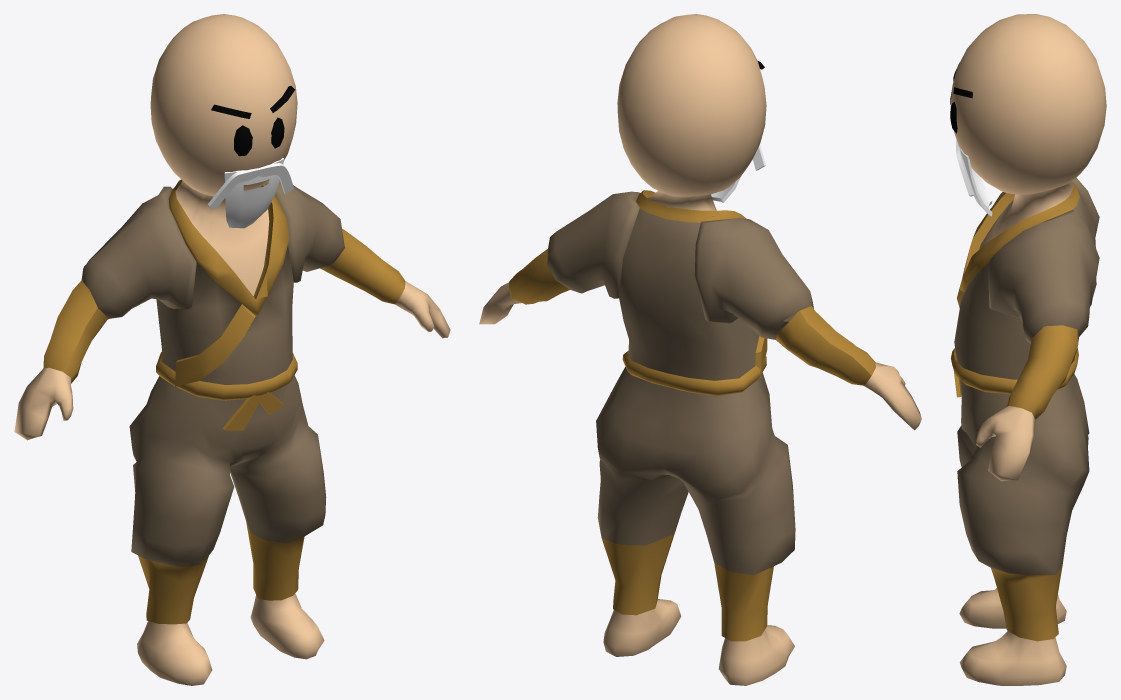
The model's file is Kung_Fu_Master.FBX.
3 renders of one model, left to right at view 1: azimuth 30°, elevation 25°; view 2: azimuth 150°, elevation 25°; view 3: azimuth 270°, elevation 25°, orthographic.
Visible parts, largest first — view 1: Kung_Fu_Old_Master; view 2: Kung_Fu_Old_Master; view 3: Kung_Fu_Old_Master.
Boxes of the visible parts, <box> form: Kung_Fu_Old_Master: <box>14,14,450,685</box>; Kung_Fu_Old_Master: <box>479,14,921,685</box>; Kung_Fu_Old_Master: <box>950,14,1106,685</box>.
Size of the model in its own units: 12.5 by 17.47 by 3.94.
Materials: 1 (1 with a texture image).
